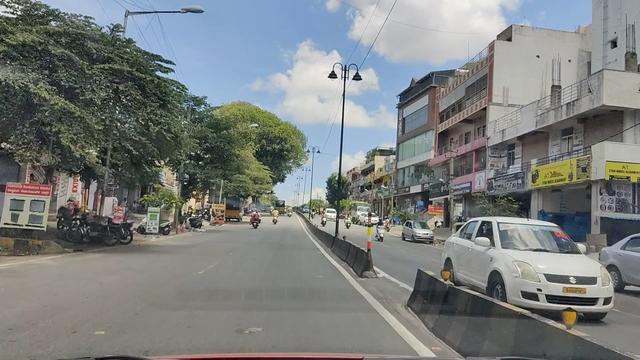LMV: (442, 224, 585, 313)
